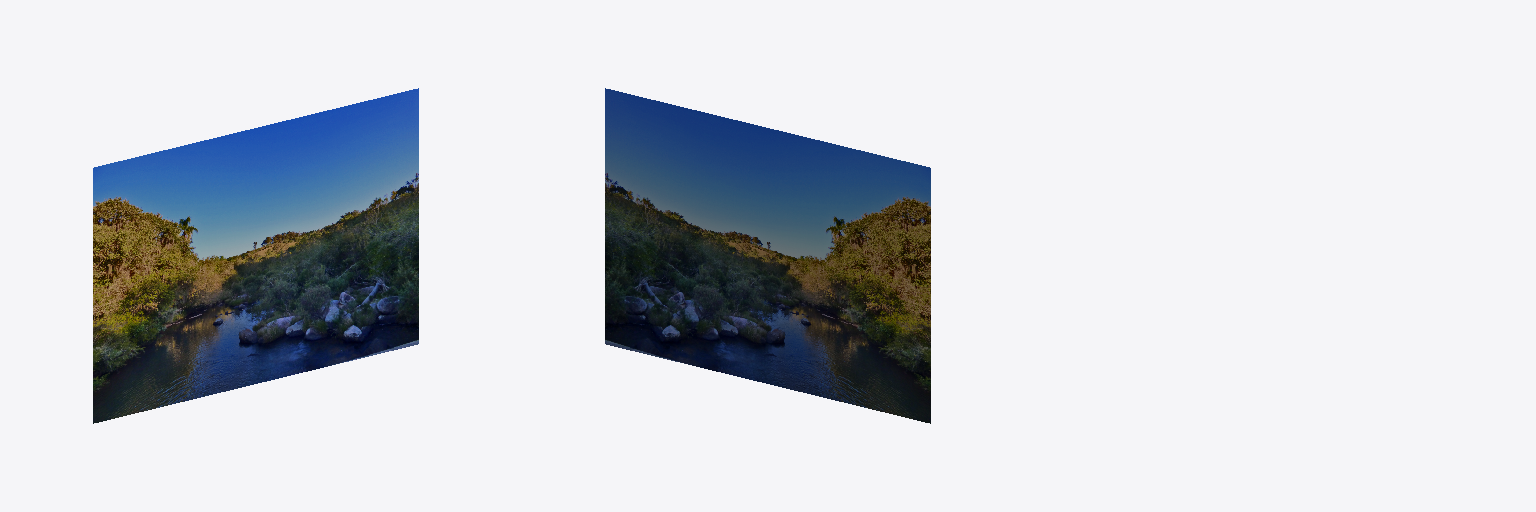
3 renders of one model, left to right at view 1: azimuth 30°, elevation 25°; view 2: azimuth 150°, elevation 25°; view 3: azimuth 270°, elevation 25°, orthographic.
Visible parts, largest first — view 1: Arroio_divisa_com_Cerrito_04; view 2: Arroio_divisa_com_Cerrito_04; view 3: none.
Part boxes in pixels (x1,y1,x2,y2): Arroio_divisa_com_Cerrito_04: (93, 88, 418, 423); Arroio_divisa_com_Cerrito_04: (605, 88, 930, 423).
Bounding box in the file's own units: 1.33 × 1 × 0.
1 materials, 1 textured.